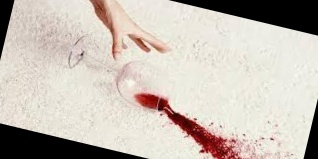wine: (134, 89, 311, 159)
